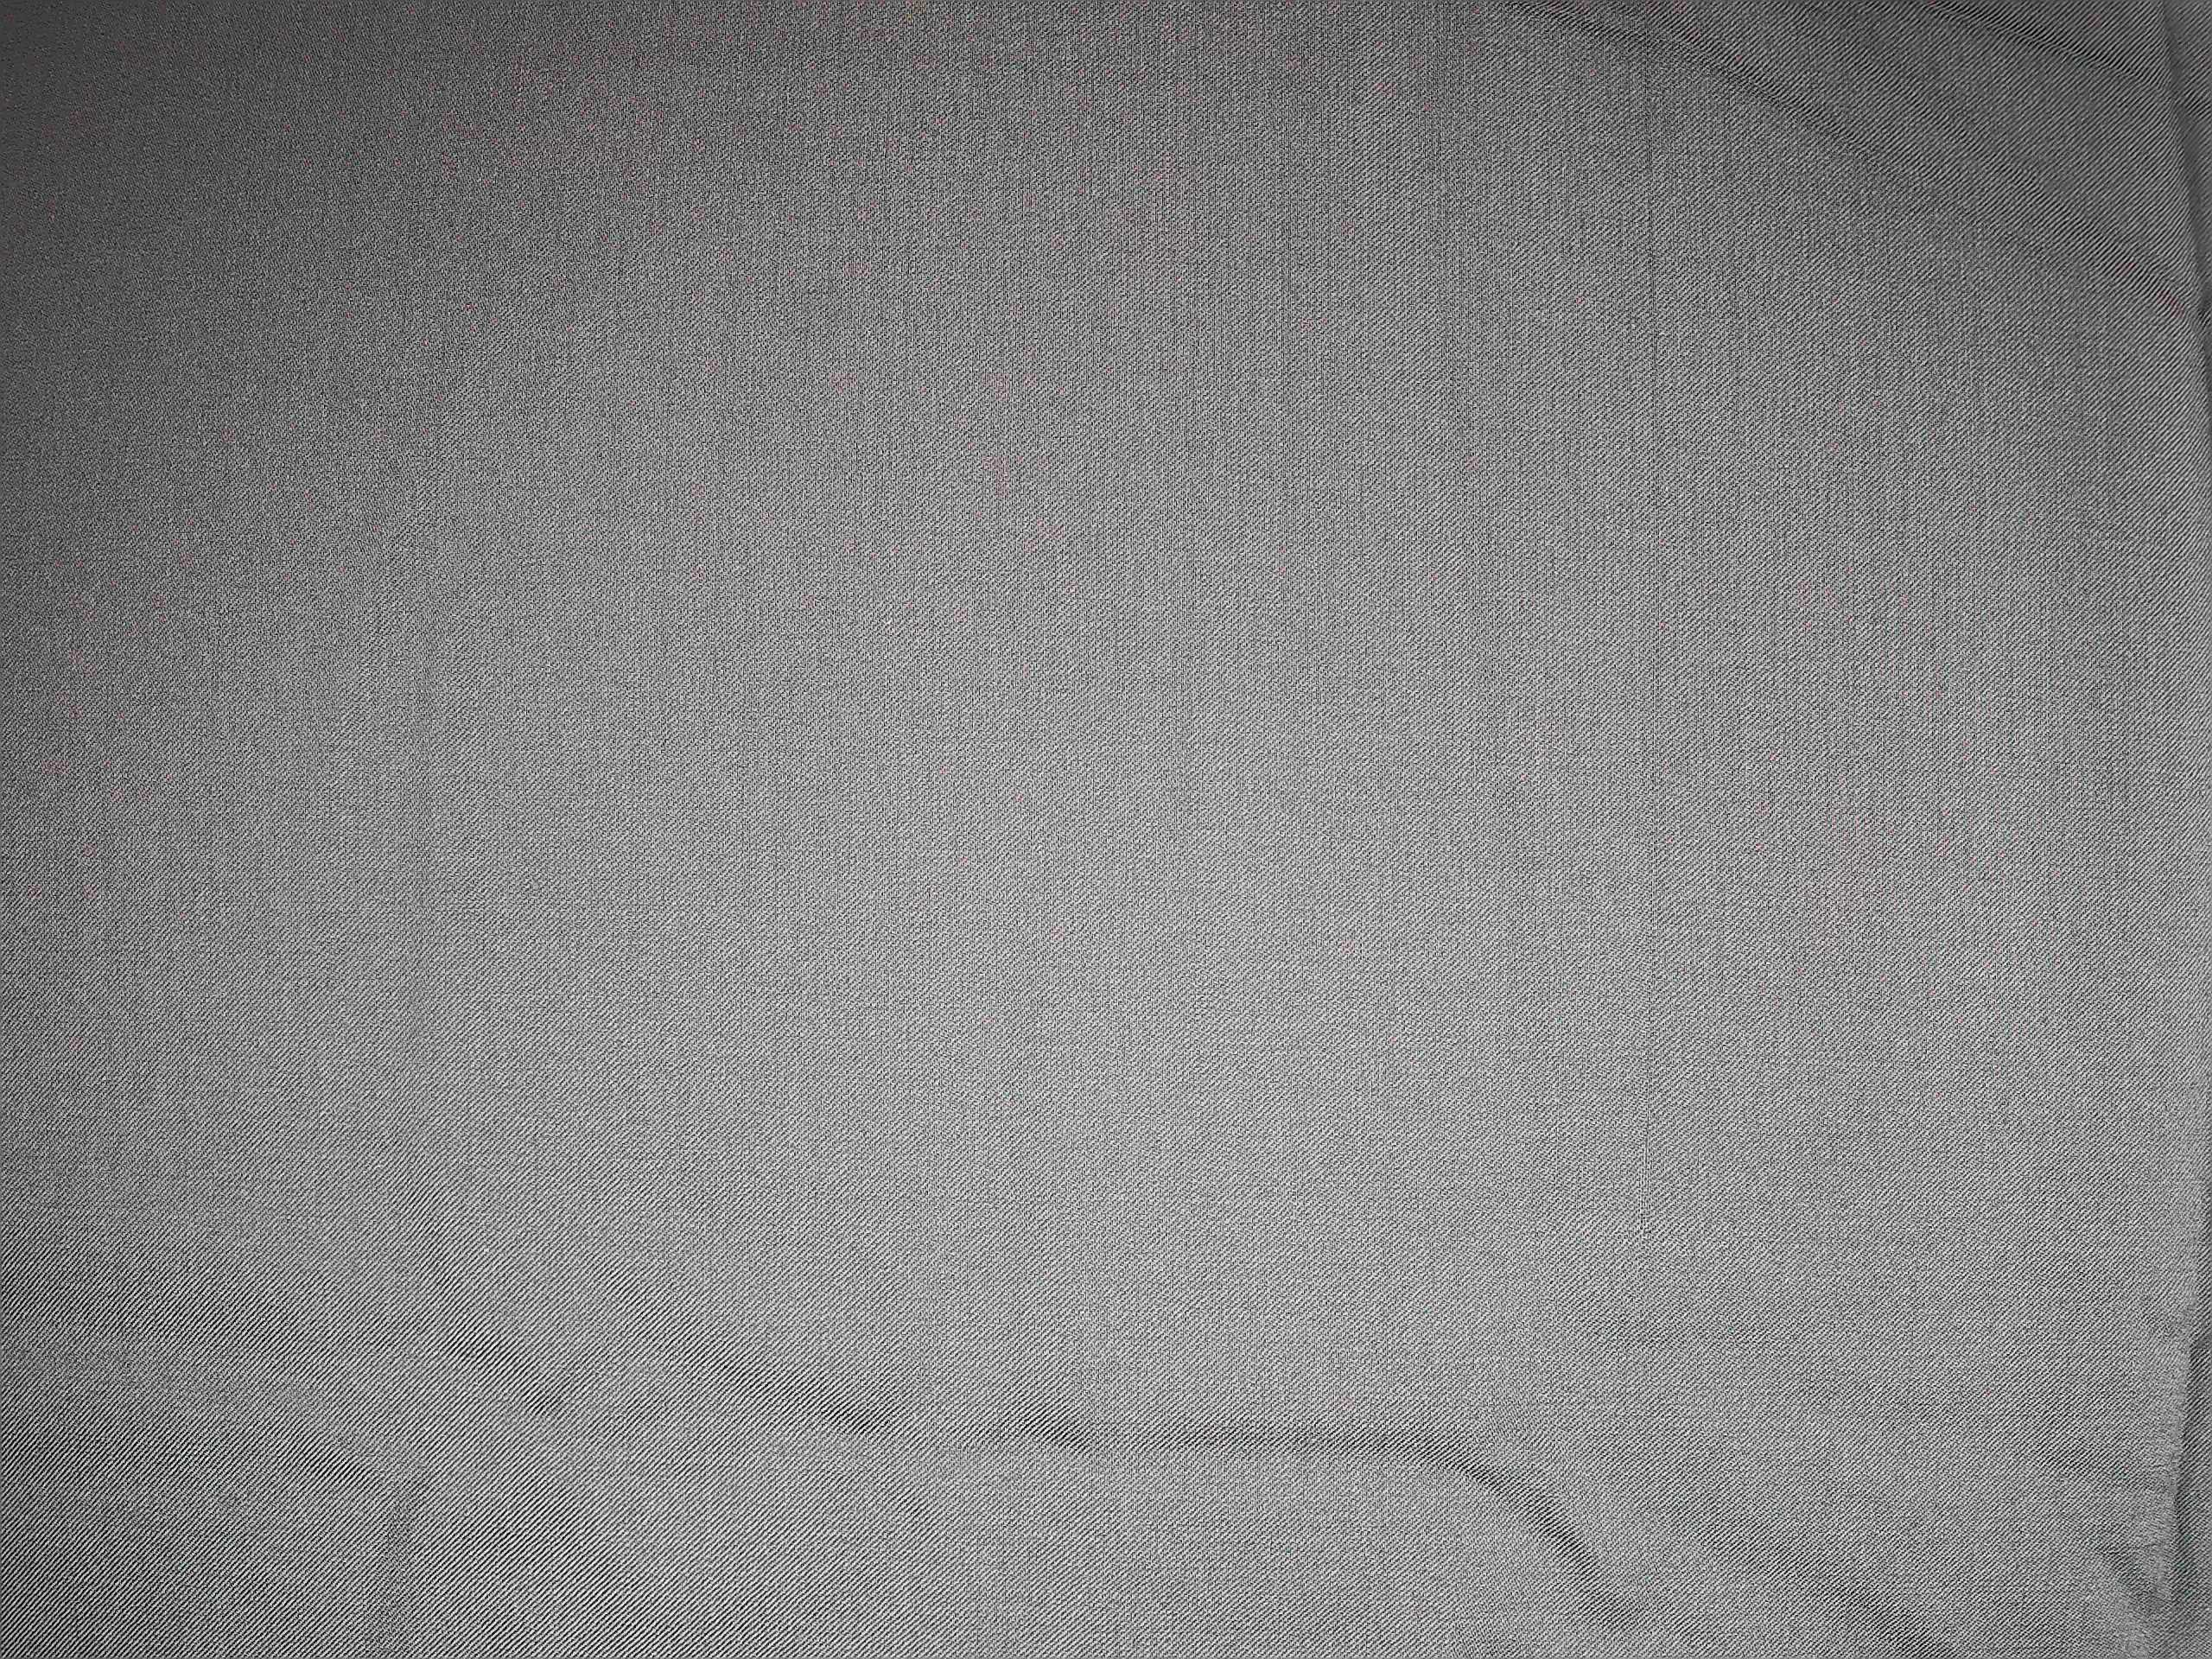hanging-warp: (1616, 3, 1677, 1347), (1716, 2, 1759, 455)
